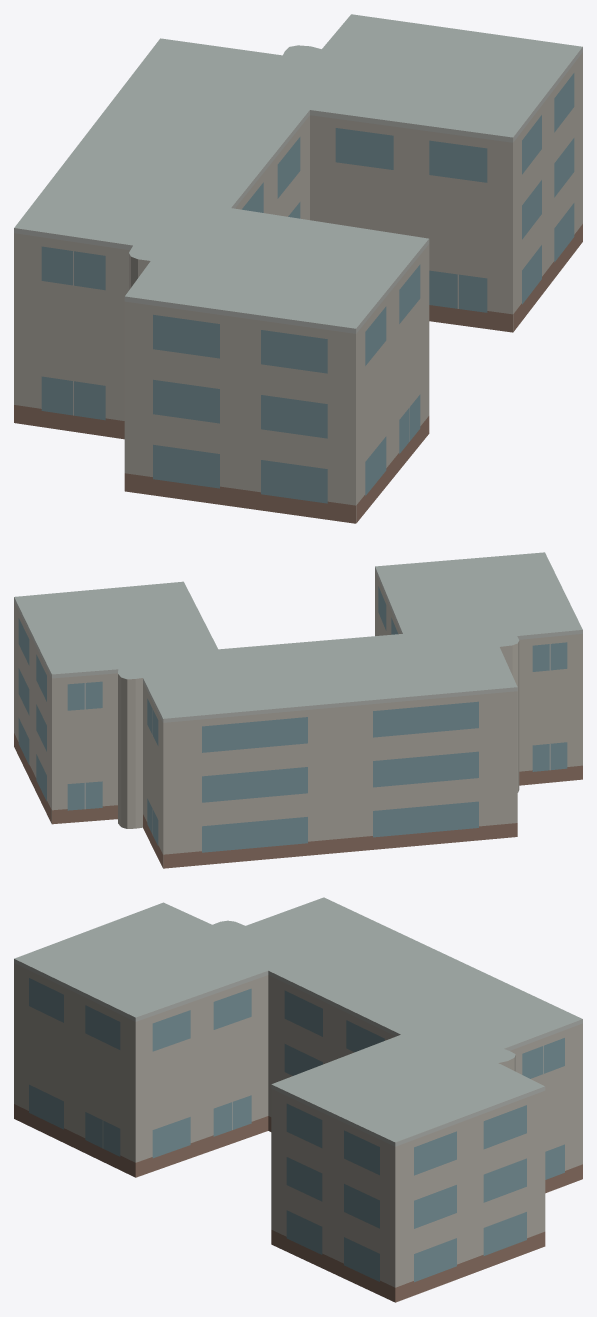
The model's file is survey-upis-32525107.glb.
3 renders of one model, top to bottom at view 1: azimuth 30°, elevation 25°; view 2: azimuth 150°, elevation 25°; view 3: azimuth 270°, elevation 25°, orthographic. The views are drawn at different scales.
Visible parts, largest first — view 1: survey-upis-32525107.tmp; view 2: survey-upis-32525107.tmp; view 3: survey-upis-32525107.tmp.
Part boxes in pixels (x1,y1,x2,y2): survey-upis-32525107.tmp: (14, 14, 582, 523); survey-upis-32525107.tmp: (14, 552, 582, 868); survey-upis-32525107.tmp: (14, 897, 582, 1302).
Bounding box in the file's own units: 30.07 × 9.15 × 29.48.
